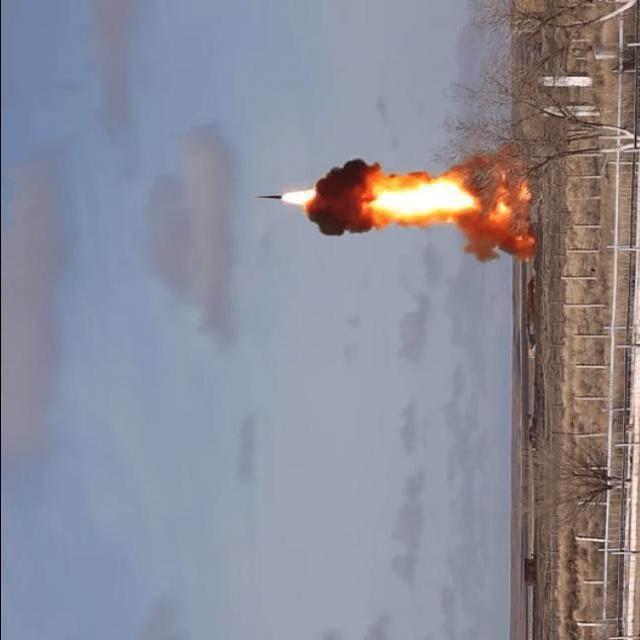Missile: (250, 188, 290, 204)
